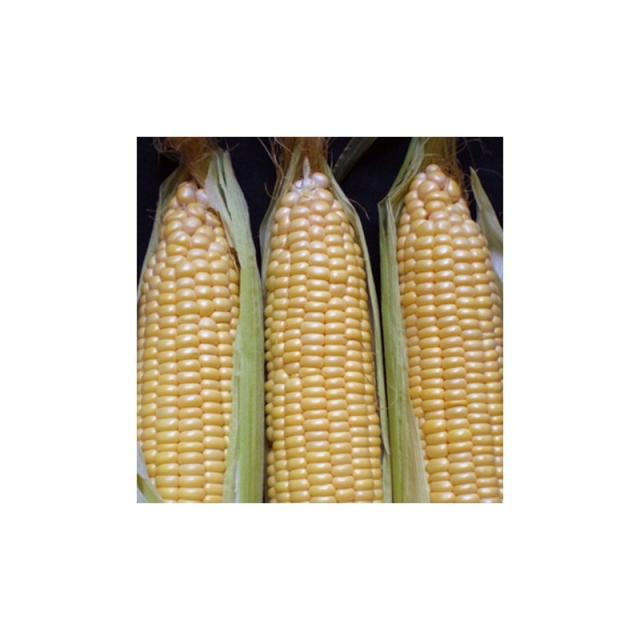corn: (142, 183, 264, 489), (264, 165, 374, 491), (404, 155, 498, 496)
